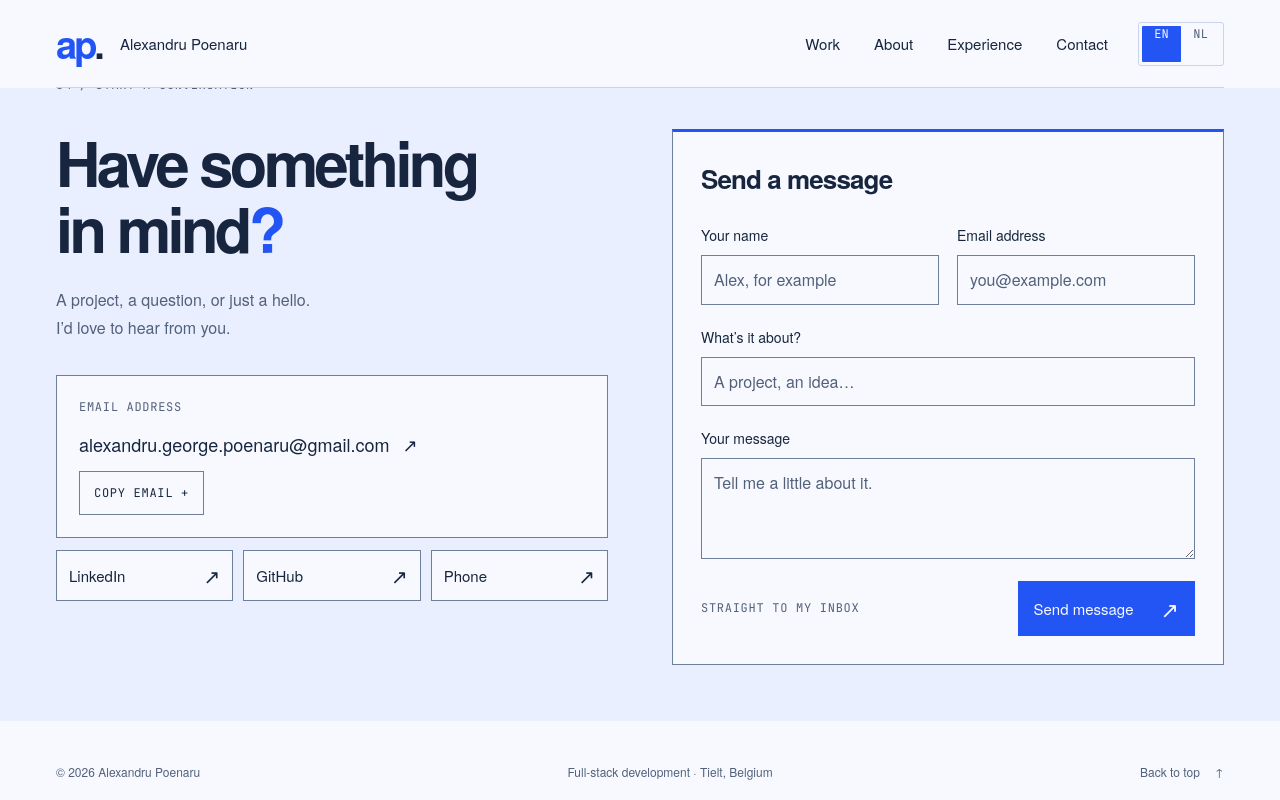
it: copy email confirms in the button without an extra message and handles clipboard failure
The image size is (1280, 800).
(page scrolled)
Click the button "COPY EMAIL +" at (142, 493), box left=79, top=471, right=204, bottom=515
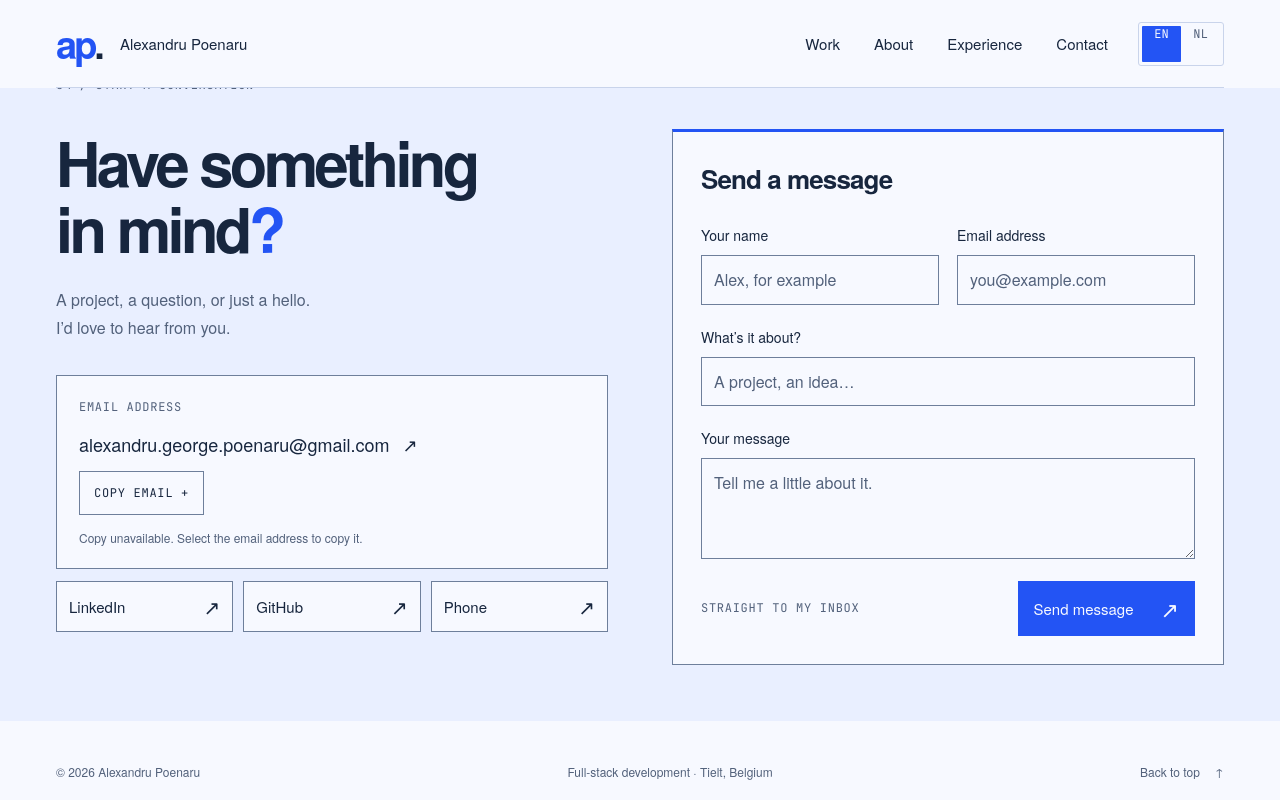
Now the text "Copy unavailable. Select the email address to copy it." is shown, box left=79, top=529, right=363, bottom=546
Click the button "COPY EMAIL +" at (142, 493), box left=79, top=471, right=204, bottom=515
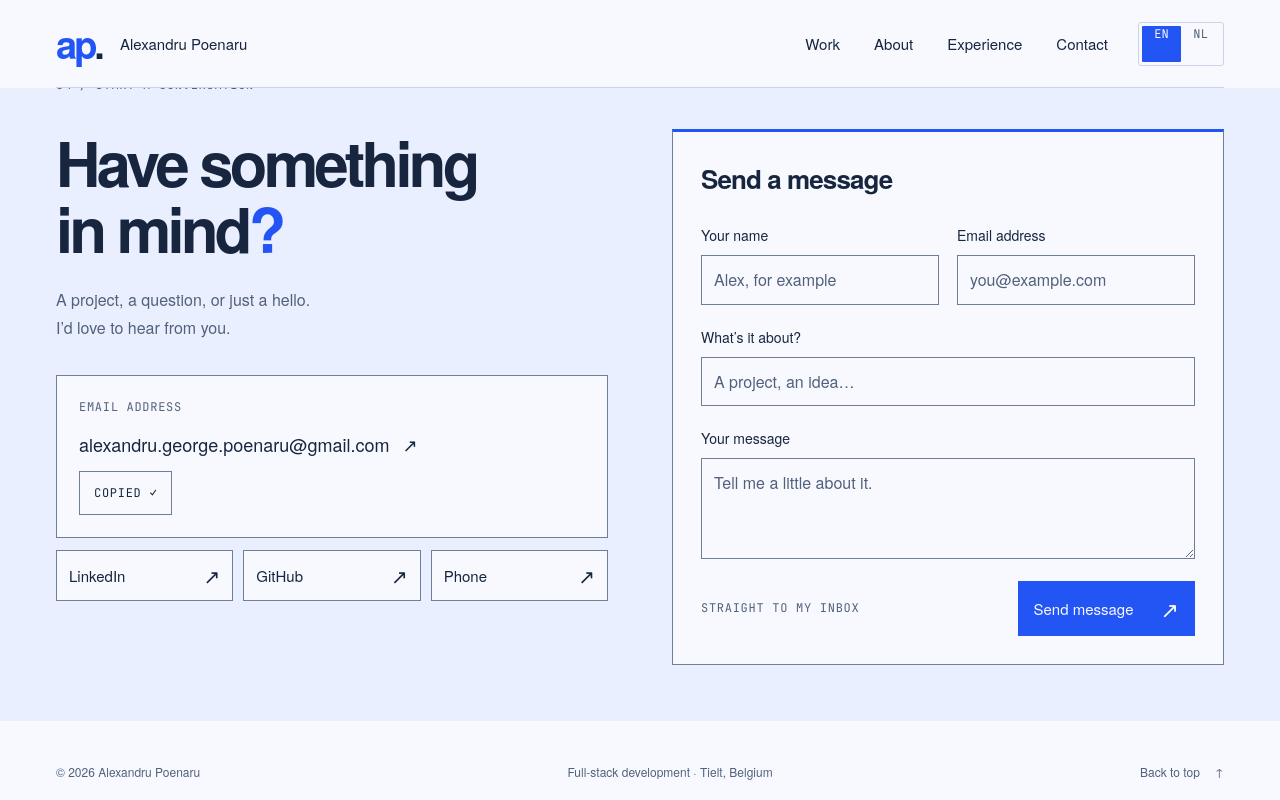
Now the button "COPIED ✓" is shown, box left=79, top=471, right=172, bottom=515
Now the message "Copy unavailable. Select the email address to copy it." is gone
